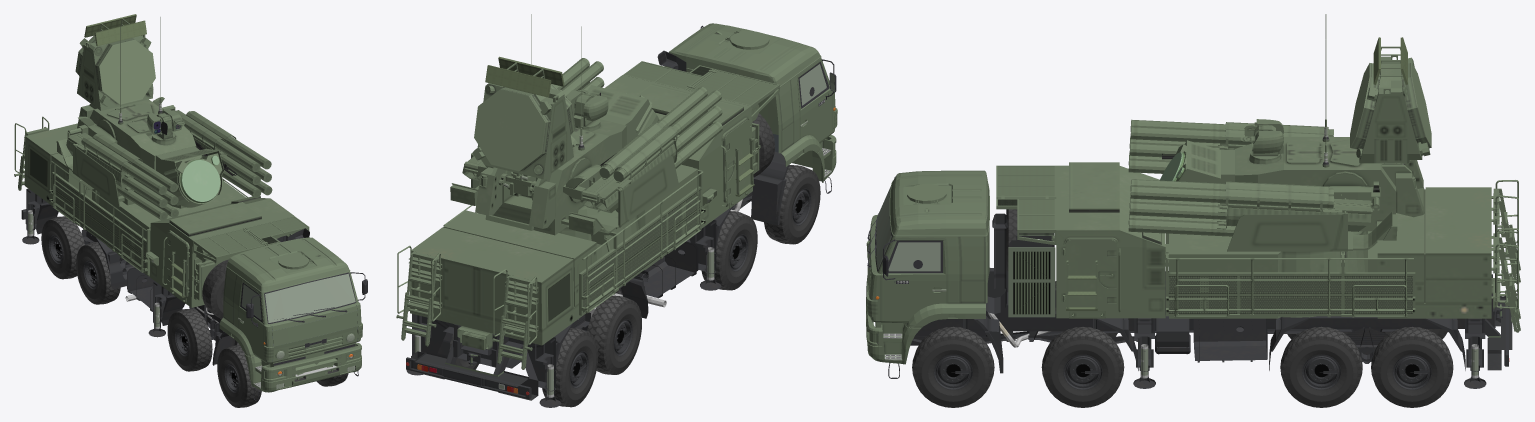
Rendered from pantsir_s2.glb.
The picture shows the model from 3 angles, left to right: view 1: azimuth 30°, elevation 25°; view 2: azimuth 150°, elevation 25°; view 3: azimuth 270°, elevation 25°; orthographic projection. The views are drawn at different scales.
Parts seen in each view (by area): view 1: [Imported] $body, [Imported] $weapon0, [Imported] Missile, [Imported] $wheel3, [Imported] $wheel5, [Imported] $wheel1, [Imported] $wheel4, [Imported] $canopy1, [Imported] $canopy4, [Imported] $weapon0_0, [Imported] $weapon0_1, [Imported] $hatch0 (+1 smaller); view 2: [Imported] $body, [Imported] $weapon0, [Imported] Missile, [Imported] $wheel4, [Imported] $wheel5, [Imported] $wheel1, [Imported] $wheel3, [Imported] $canopy1, [Imported] $canopy4, [Imported] $weapon0_0, [Imported] $hatch0, [Imported] $weapon0_1 (+1 smaller); view 3: [Imported] $body, [Imported] $weapon0, [Imported] Missile, [Imported] $wheel5, [Imported] $wheel4, [Imported] $wheel0, [Imported] $wheel2, [Imported] $canopy0, [Imported] $canopy3, [Imported] $weapon0_0, [Imported] $weapon0_1, [Imported] $hatch0 (+1 smaller).
Part boxes in pixels (bbox=[...]): [Imported] $body: bbox=[14, 116, 362, 400]; [Imported] $weapon0: bbox=[56, 14, 224, 208]; [Imported] Missile: bbox=[66, 110, 272, 220]; [Imported] $wheel3: bbox=[167, 308, 212, 371]; [Imported] $wheel5: bbox=[41, 216, 84, 279]; [Imported] $wheel1: bbox=[217, 345, 261, 407]; [Imported] $wheel4: bbox=[76, 242, 120, 304]; [Imported] $canopy1: bbox=[238, 280, 263, 361]; [Imported] $canopy4: bbox=[166, 231, 189, 298]; [Imported] $weapon0_0: bbox=[67, 97, 260, 204]; [Imported] $weapon0_1: bbox=[147, 109, 184, 134]; [Imported] $hatch0: bbox=[22, 210, 165, 337]; [Imported] $body: bbox=[396, 23, 837, 400]; [Imported] $weapon0: bbox=[450, 14, 678, 235]; [Imported] Missile: bbox=[462, 58, 722, 212]; [Imported] $wheel4: bbox=[587, 295, 641, 374]; [Imported] $wheel5: bbox=[449, 328, 598, 407]; [Imported] $wheel1: bbox=[764, 165, 820, 244]; [Imported] $wheel3: bbox=[701, 211, 757, 290]; [Imported] $canopy1: bbox=[797, 59, 836, 143]; [Imported] $canopy4: bbox=[722, 119, 754, 203]; [Imported] $weapon0_0: bbox=[464, 77, 616, 202]; [Imported] $hatch0: bbox=[406, 247, 721, 407]; [Imported] $weapon0_1: bbox=[566, 89, 608, 121]; [Imported] $body: bbox=[866, 162, 1520, 378]; [Imported] $weapon0: bbox=[1159, 14, 1431, 251]; [Imported] Missile: bbox=[1128, 119, 1372, 236]; [Imported] $wheel5: bbox=[1371, 326, 1453, 407]; [Imported] $wheel4: bbox=[1280, 326, 1362, 407]; [Imported] $wheel0: bbox=[912, 326, 994, 407]; [Imported] $wheel2: bbox=[1041, 327, 1124, 407]; [Imported] $canopy0: bbox=[881, 239, 946, 323]; [Imported] $canopy3: bbox=[1063, 239, 1116, 311]; [Imported] $weapon0_0: bbox=[1129, 143, 1380, 212]; [Imported] $weapon0_1: bbox=[1240, 119, 1283, 153]; [Imported] $hatch0: bbox=[1133, 344, 1486, 388].
Bounding box in the file's own units: 2.99 × 6.38 × 10.81.
1 material, 1 textured.
